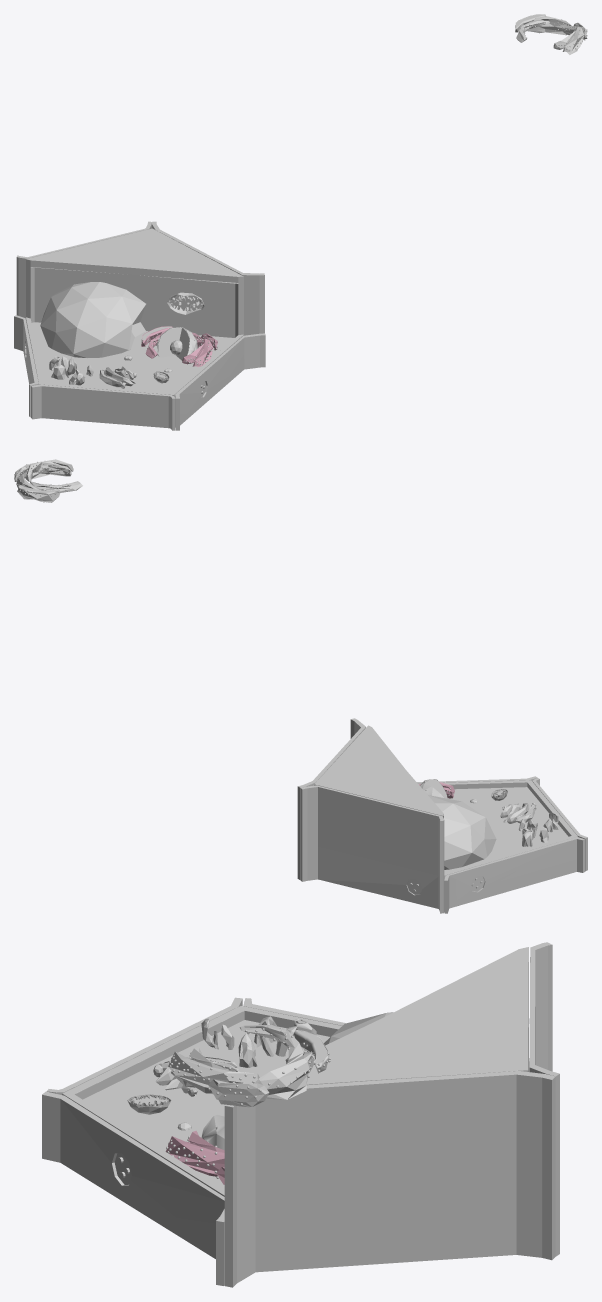
The model's file is Zelle.fbx.
3 views of the same model, one above another, from view 1: azimuth 30°, elevation 25°; view 2: azimuth 150°, elevation 25°; view 3: azimuth 270°, elevation 25° (orthographic). The views are drawn at different scales.
Visible parts, largest first — view 1: Cylinder, Cylinder.002, Vakuole, ico, Icosphere.024, Icosphere.001, Golgi; view 2: Cylinder, Cylinder.002, Vakuole, ico, Icosphere.024; view 3: Cylinder, Cylinder.002, ico, Icosphere.024, Icosphere.036, Golgi, Zellkern, Vakuole.
Part boxes in pixels (<box>): Cylinder: <box>14,221,265,430</box>; Cylinder.002: <box>31,267,235,396</box>; Vakuole: <box>40,282,145,357</box>; ico: <box>515,14,587,54</box>; Icosphere.024: <box>49,356,93,385</box>; Icosphere.001: <box>158,327,194,360</box>; Golgi: <box>99,366,136,388</box>; Cylinder: <box>297,718,587,913</box>; Cylinder.002: <box>407,787,568,894</box>; Vakuole: <box>428,795,496,869</box>; ico: <box>14,459,82,502</box>; Icosphere.024: <box>518,813,558,846</box>; Cylinder: <box>42,942,559,1287</box>; Cylinder.002: <box>83,1020,329,1188</box>; ico: <box>168,1025,330,1107</box>; Icosphere.024: <box>201,1016,316,1067</box>; Icosphere.036: <box>165,1130,224,1176</box>; Golgi: <box>153,1056,239,1096</box>; Zellkern: <box>201,1113,224,1150</box>; Vakuole: <box>324,1012,393,1045</box>.
Size of the model in its own units: 626 by 283 by 254.
